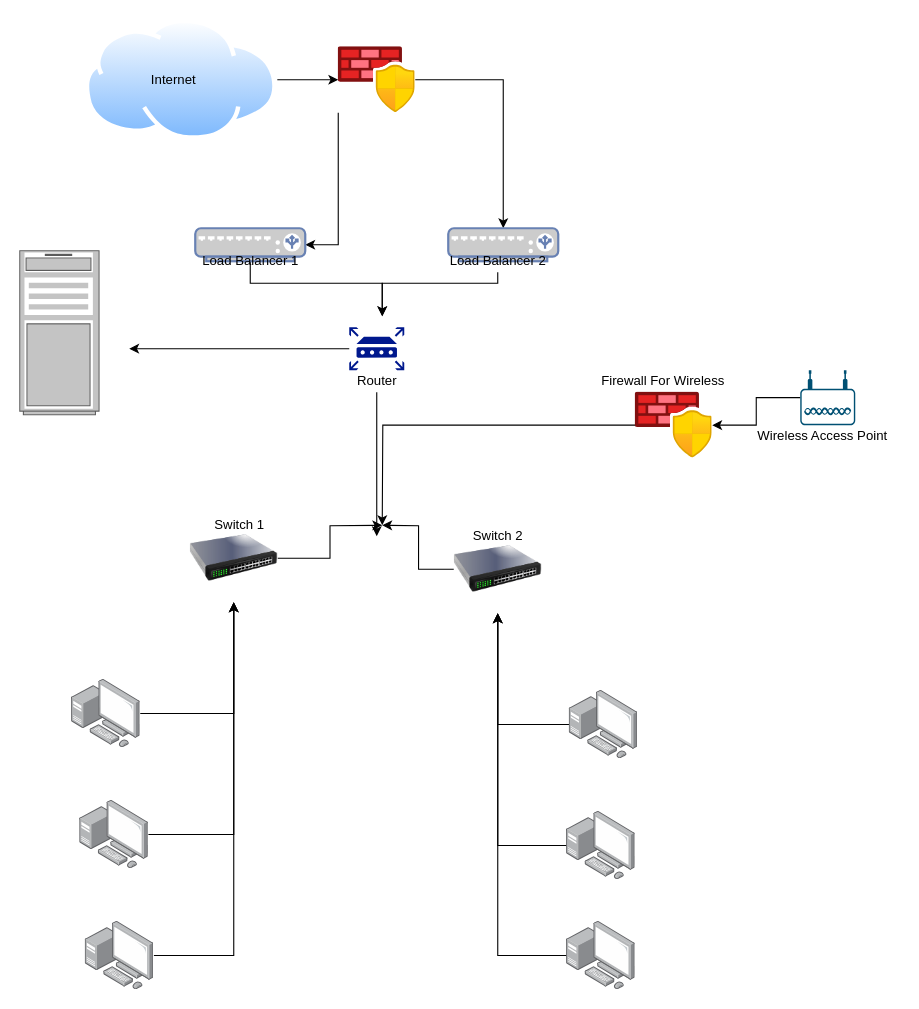
This 919x1009 diagram has some shape labels left out. Each missing label, with the box of its shape:
Firewall: (338, 46, 415, 112)
Server: (18, 249, 100, 415)
